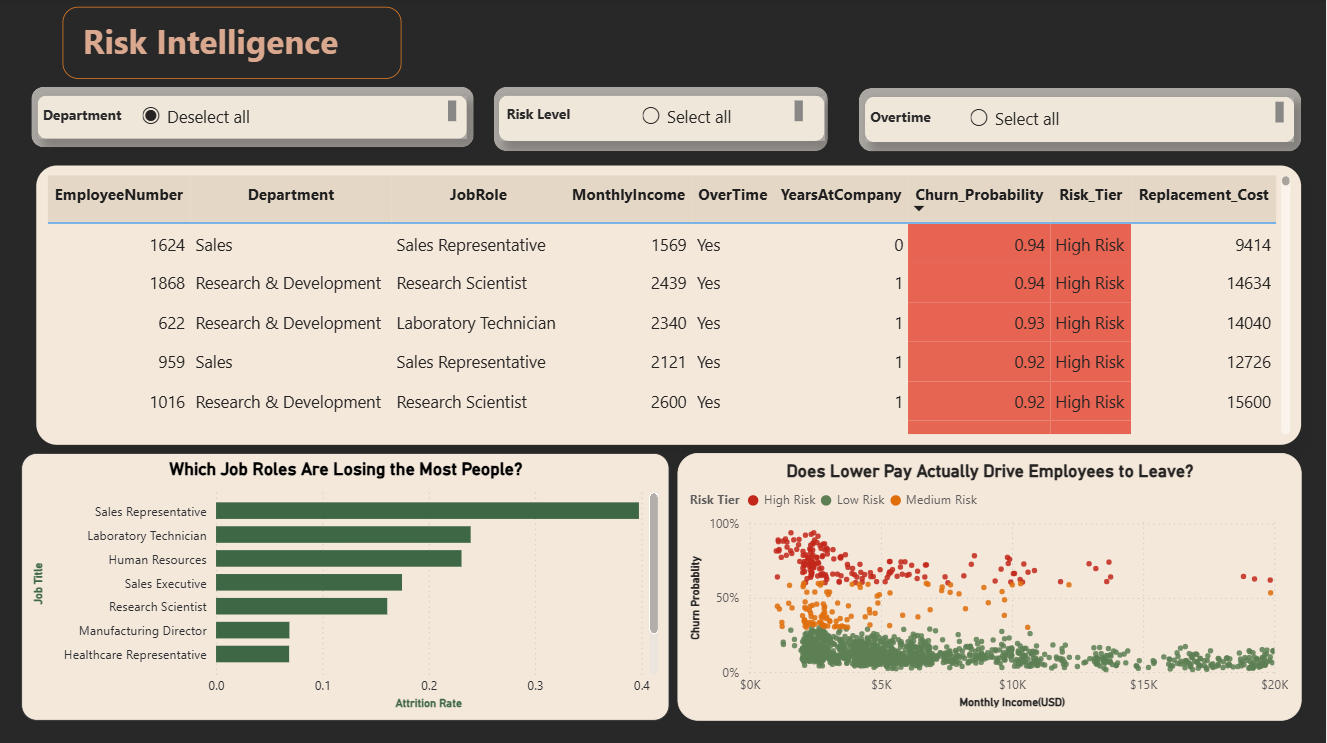

The dashboard page shown, as its layout file describes it:
{"tool":"powerbi","page":{"name":"Risk Intelligence","canvas":[1280,720],"ordinal":1},"visuals":[{"type":"shape","box":[29.6,85.8,427.1,58.4],"z":0,"group":"g2"},{"type":"shape","box":[476.5,85.8,322.6,62.2],"z":0,"group":"g1"},{"type":"shape","box":[828.7,87.3,427.1,61.2],"z":0,"group":"g3"},{"type":"tableEx","title":"1 in 6 Employees Leaves","fields":{"Values":["flight_risk_employees.EmployeeNumber","flight_risk_employees.Department","flight_risk_employees.JobRole","flight_risk_employees.MonthlyIncome","flight_risk_employees.OverTime","flight_risk_employees.YearsAtCompany","flight_risk_employees.Churn_Probability","flight_risk_employees.Risk_Tier","flight_risk_employees.Replacement_Cost"]},"box":[35.5,161.3,1220.8,269.3],"z":0},{"type":"textbox","box":[60,8.6,327.1,69.8],"z":1000},{"type":"shape","box":[35.3,93.8,414.3,41.9],"z":1000,"group":"g2"},{"type":"shape","box":[480.8,94.2,314.4,43.9],"z":1000,"group":"g1"},{"type":"shape","box":[834.4,95.6,414.3,43.9],"z":1000,"group":"g3"},{"type":"group","id":"g1","title":"Risk Tier","box":[476.5,85.8,322.6,62.2],"z":2000},{"type":"textbox","box":[484.2,98.4,129.4,36.2],"z":2000,"group":"g1"},{"type":"textbox","box":[35.3,98.5,96.7,33.4],"z":2000,"group":"g2"},{"type":"textbox","box":[834.4,100.7,96.7,35],"z":2000,"group":"g3"},{"type":"group","id":"g2","title":"Department","box":[29.6,85.8,426.2,57.7],"z":3000},{"type":"listSlicer","fields":{"Values":["flight_risk_employees.Risk_Tier"]},"box":[613.6,94.2,167,44.5],"z":3000,"group":"g1"},{"type":"listSlicer","fields":{"Values":["HR-Employee-Attrition.Department"]},"box":[131.3,94.4,314.3,41.9],"z":3000,"group":"g2"},{"type":"listSlicer","fields":{"Values":["HR-Employee-Attrition.OverTime"]},"box":[930.4,96.3,314.3,43.9],"z":3000,"group":"g3"},{"type":"group","id":"g3","title":"Overtime","box":[828.7,87.3,427.7,60.7],"z":4000},{"type":"barChart","title":"Which Job Roles Are Losing the Most People?","fields":{"Category":["HR-Employee-Attrition.JobRole"],"Y":["HR-Employee-Attrition.Attrition Rate"]},"box":[20.3,439.3,625.4,258.3],"z":5000},{"type":"scatterChart","title":"Does Lower Pay Actually Drive Employees to Leave?","fields":{"X":["flight_risk_employees.MonthlyIncome"],"Y":["flight_risk_employees.Churn_Probability"],"Series":["flight_risk_employees.Risk_Tier"]},"box":[653.9,439.1,602,258.2],"z":6000}]}

Visuals, with their boxes in screenshot pixels (x1, y1, x2, y2), scaled from the page's 1280x720 canvas onto the 1327x743 screenshot:
shape: bbox=[31, 89, 473, 149]
shape: bbox=[494, 89, 828, 153]
shape: bbox=[859, 90, 1302, 153]
"1 in 6 Employees Leaves" tableEx: bbox=[37, 166, 1302, 444]
textbox: bbox=[62, 9, 401, 81]
shape: bbox=[37, 97, 466, 140]
shape: bbox=[498, 97, 824, 143]
shape: bbox=[865, 99, 1295, 144]
"Risk Tier" group: bbox=[494, 89, 828, 153]
textbox: bbox=[502, 102, 636, 139]
textbox: bbox=[37, 102, 137, 136]
textbox: bbox=[865, 104, 965, 140]
"Department" group: bbox=[31, 89, 473, 148]
listSlicer - flight_risk_employees.Risk_Tier: bbox=[636, 97, 809, 143]
listSlicer - HR-Employee-Attrition.Department: bbox=[136, 97, 462, 141]
listSlicer - HR-Employee-Attrition.OverTime: bbox=[965, 99, 1290, 145]
"Overtime" group: bbox=[859, 90, 1303, 153]
"Which Job Roles Are Losing the Most People?" barChart: bbox=[21, 453, 669, 720]
"Does Lower Pay Actually Drive Employees to Leave?" scatterChart: bbox=[678, 453, 1302, 720]
